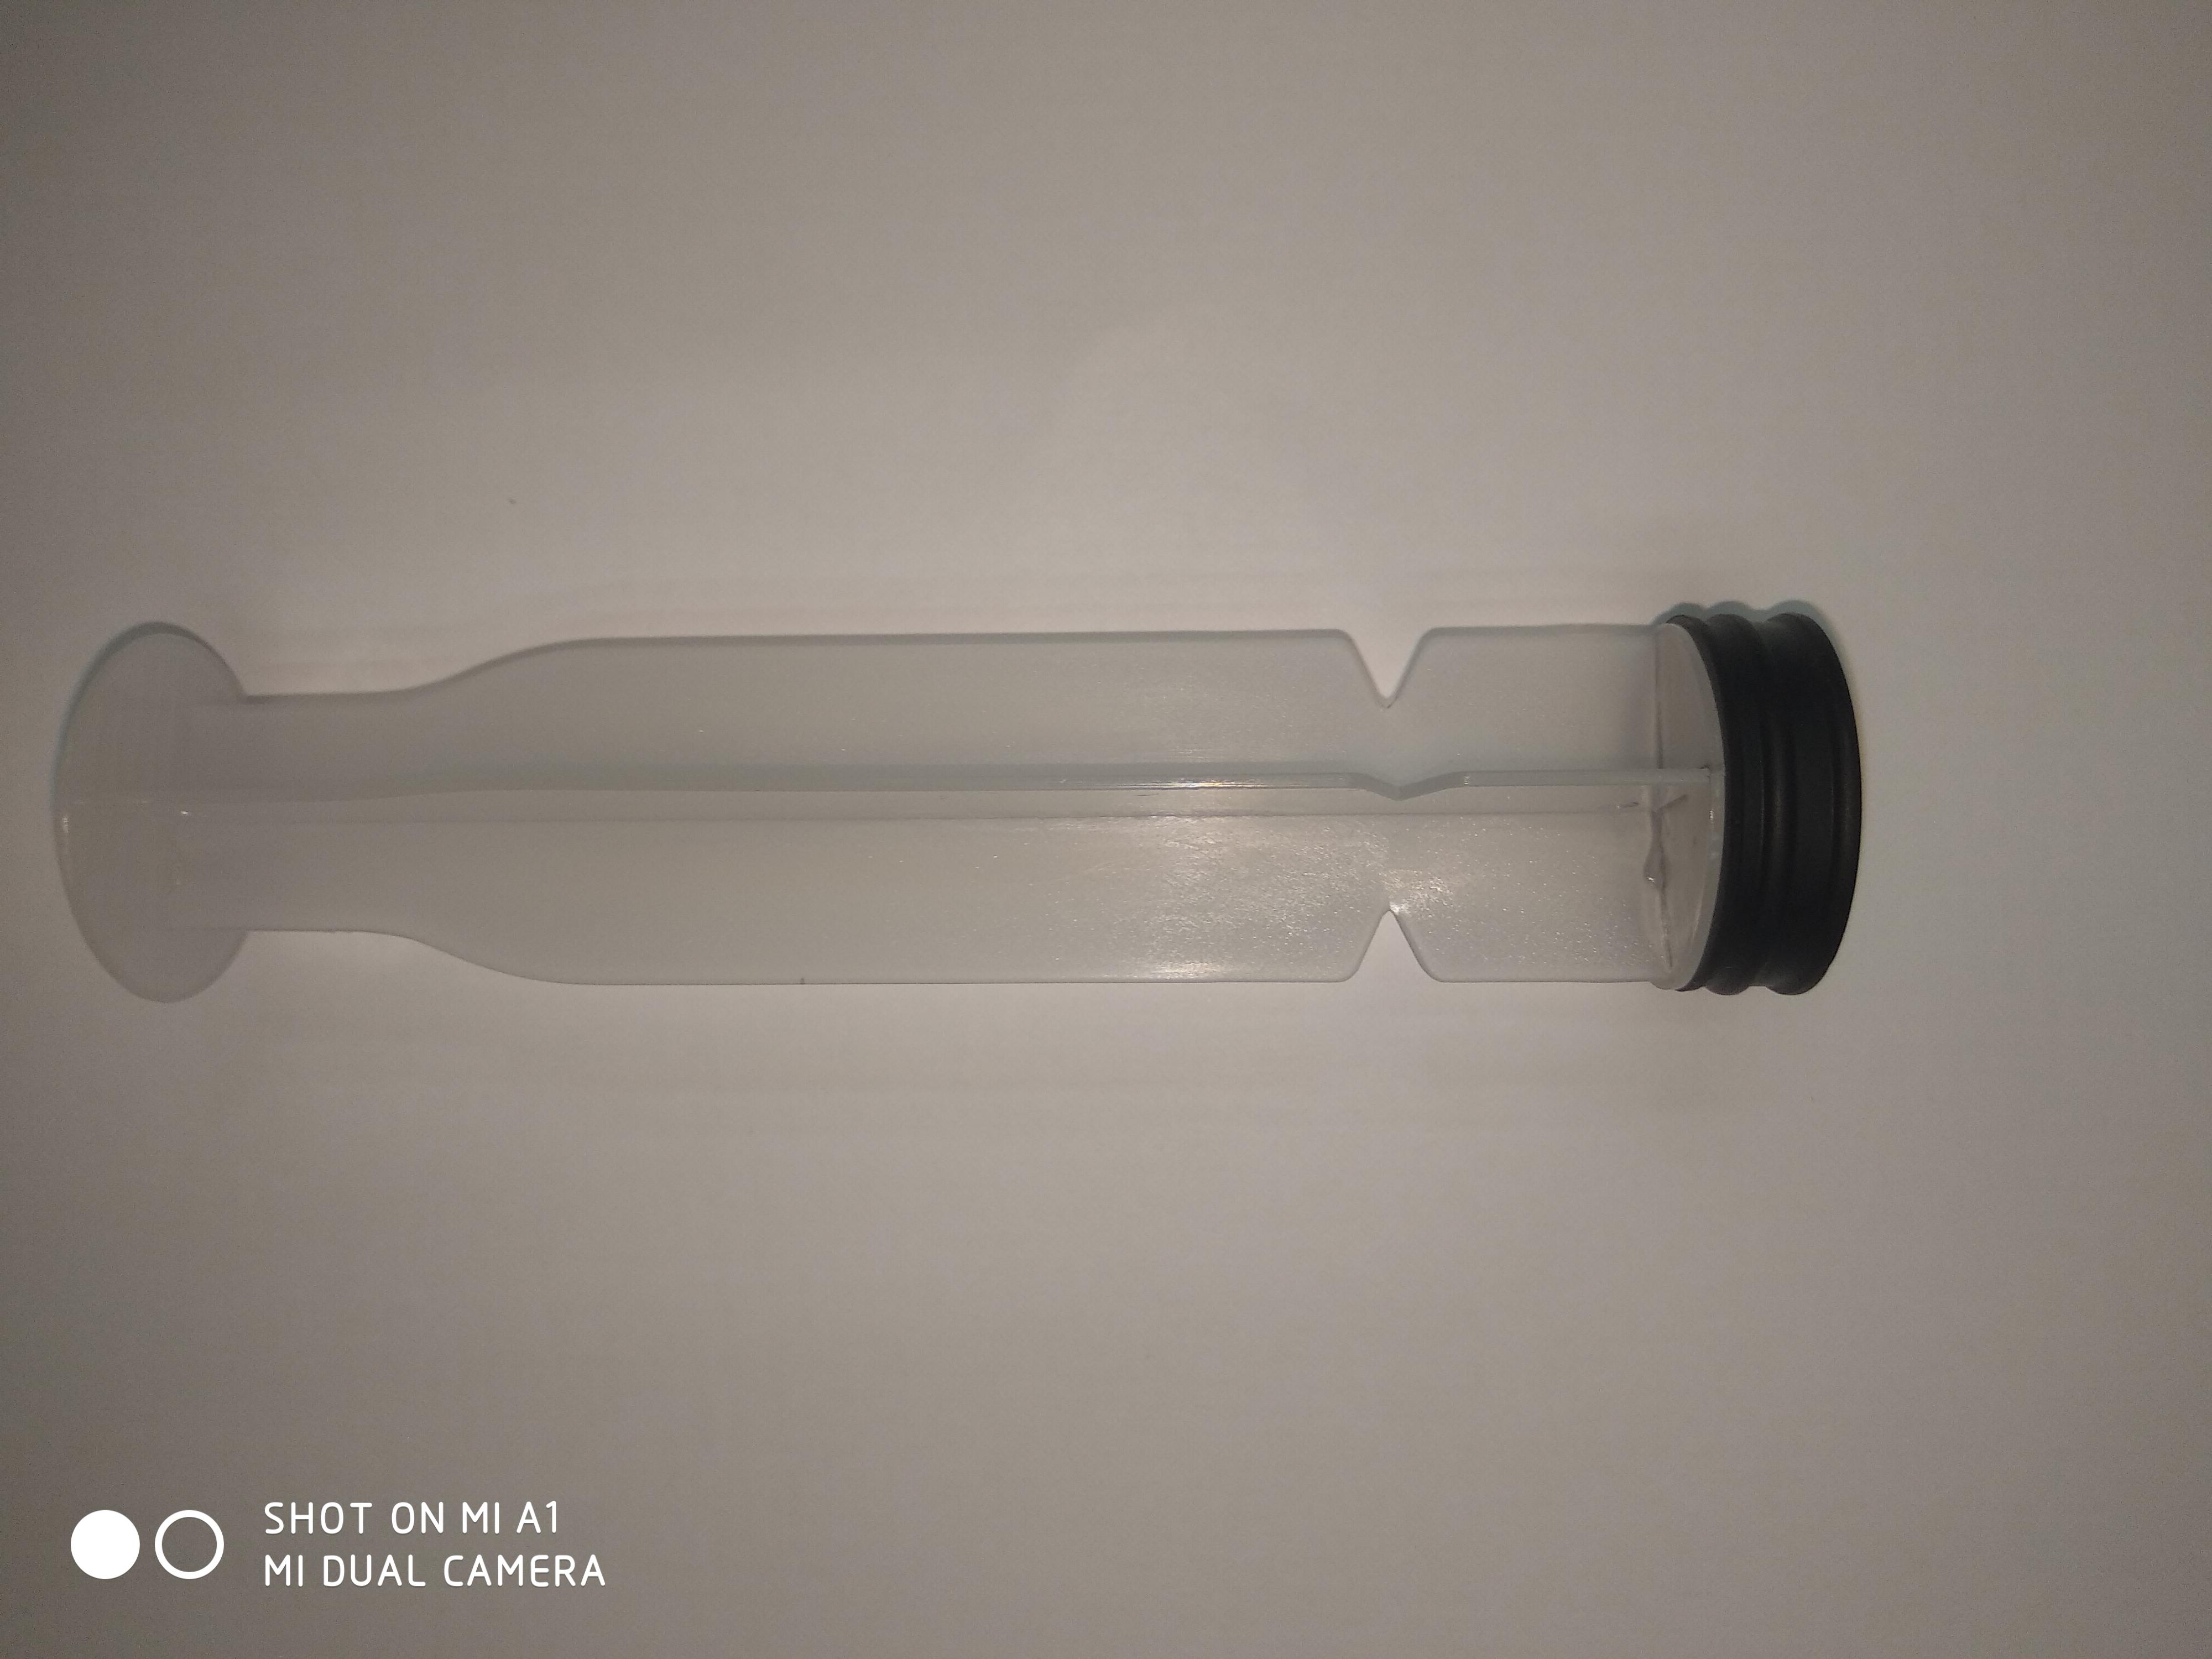plunger: (45, 594, 1860, 1016)
